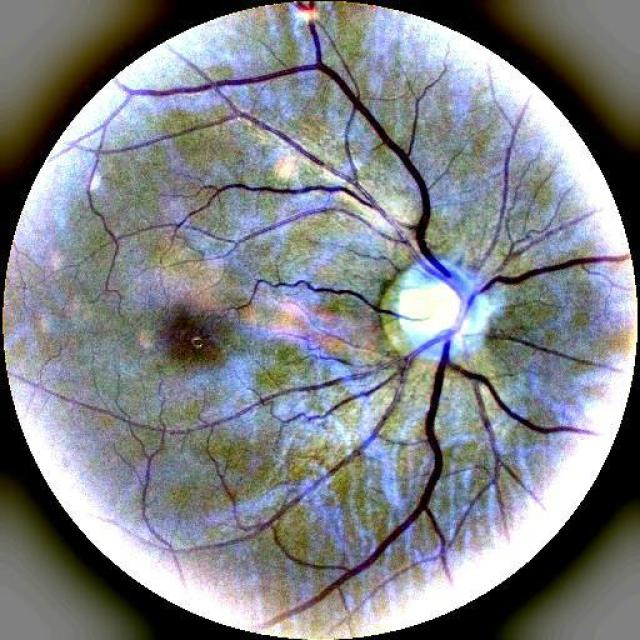Macula: (169, 314, 220, 360)
Nerves: (115, 55, 625, 625)
Optic Disk: (382, 258, 487, 361)
